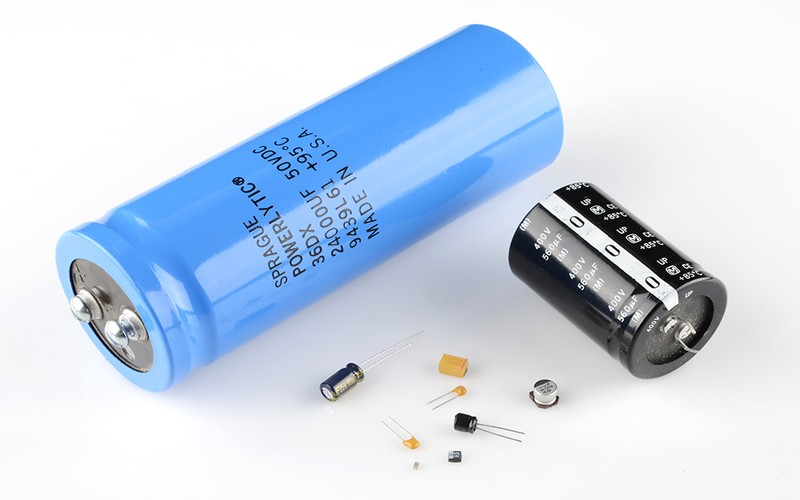Capacitor: (34, 19, 577, 392), (501, 161, 738, 385), (300, 315, 567, 483)
